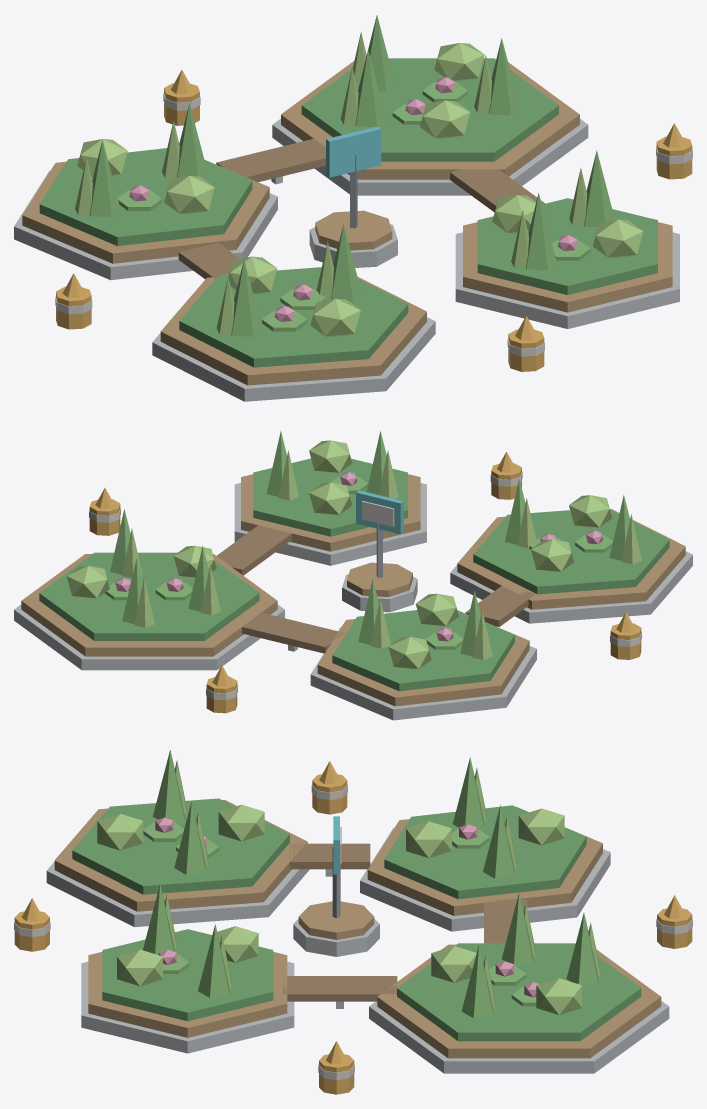
Rendered from agua__jardim_flutuante.glb.
3 renders of one model, top to bottom at view 1: azimuth 30°, elevation 25°; view 2: azimuth 150°, elevation 25°; view 3: azimuth 270°, elevation 25°, orthographic. The views are drawn at different scales.
Parts seen in each view (by area): view 1: agua__jardim_flutuante; view 2: agua__jardim_flutuante; view 3: agua__jardim_flutuante.
Part boxes in pixels (x1=…): agua__jardim_flutuante: x1=14, y1=15, x2=692, y2=401; agua__jardim_flutuante: x1=14, y1=431, x2=692, y2=720; agua__jardim_flutuante: x1=14, y1=750, x2=692, y2=1094.
Size of the model in its own units: 5.17 by 0.9 by 5.02.
